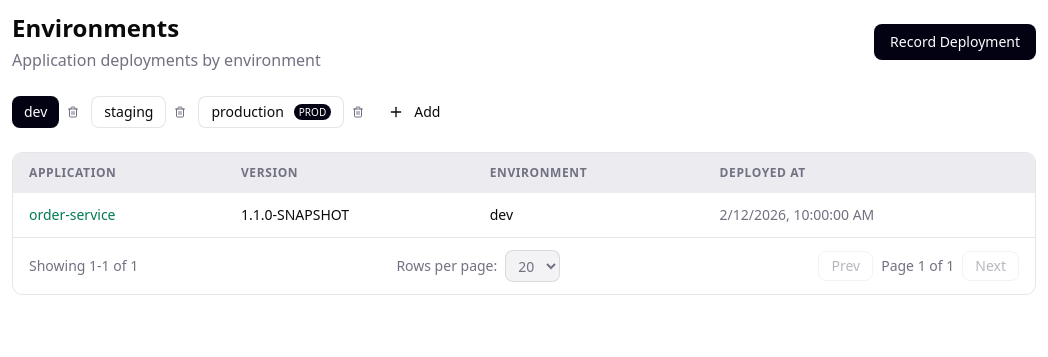
EnvironmentsPage › should switch to staging environment and show staging deployments
click on staging button
What coordinates should you click on to do the following:
click the button "staging"
I would click on:
 (129, 112)
Its box is [91, 96, 166, 128].
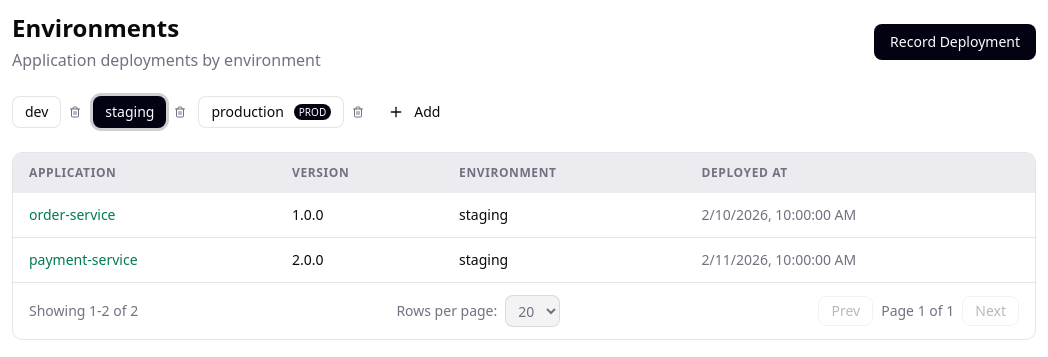
Check: the button "order-service" is shown, box [29, 205, 116, 225]
Check: the button "payment-service" is shown, box [29, 250, 138, 270]
